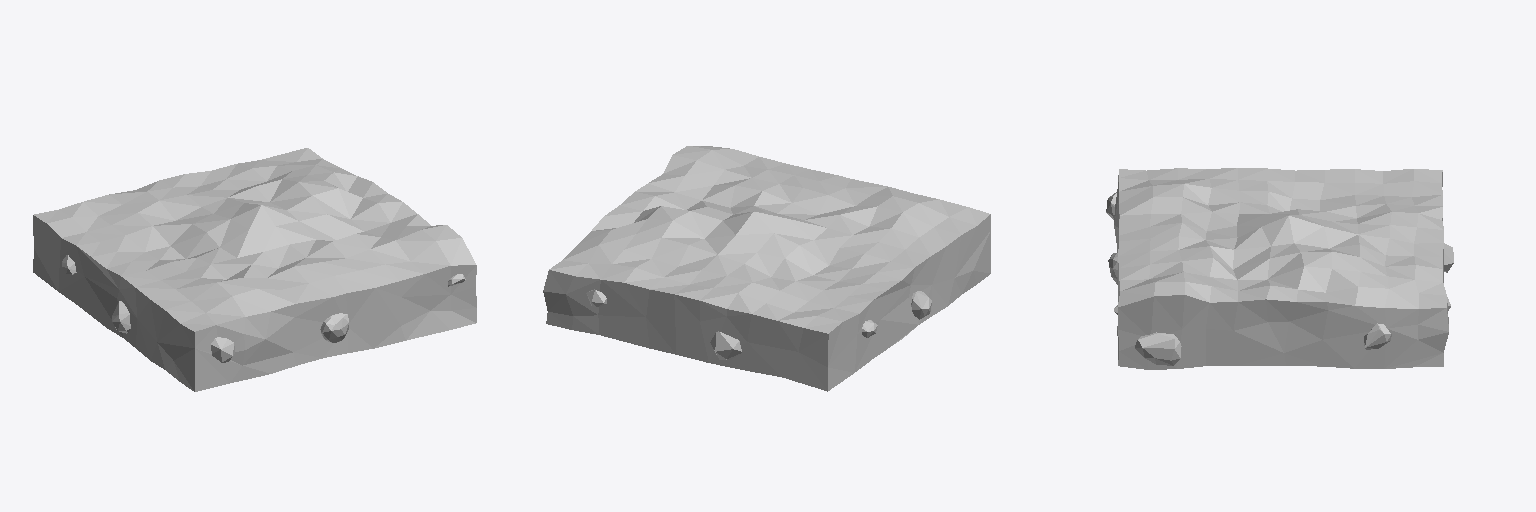
File: water.obj
3 views of the same model, side by side, from view 1: azimuth 30°, elevation 25°; view 2: azimuth 150°, elevation 25°; view 3: azimuth 270°, elevation 25° (orthographic).
Parts seen in each view (by area): view 1: Cube_Cube.006, Icosphere; view 2: Cube_Cube.006, Icosphere.005; view 3: Cube_Cube.006, Icosphere.007.
Boxes of the visible parts, x1=… form: Cube_Cube.006: x1=33, y1=148, x2=476, y2=391; Icosphere: x1=320, y1=313, x2=349, y2=342; Cube_Cube.006: x1=543, y1=146, x2=990, y2=391; Icosphere.005: x1=710, y1=331, x2=741, y2=359; Cube_Cube.006: x1=1114, y1=168, x2=1448, y2=369; Icosphere.007: x1=1135, y1=332, x2=1181, y2=365.
Bounding box in the file's own units: 6.51 × 1.85 × 6.43.